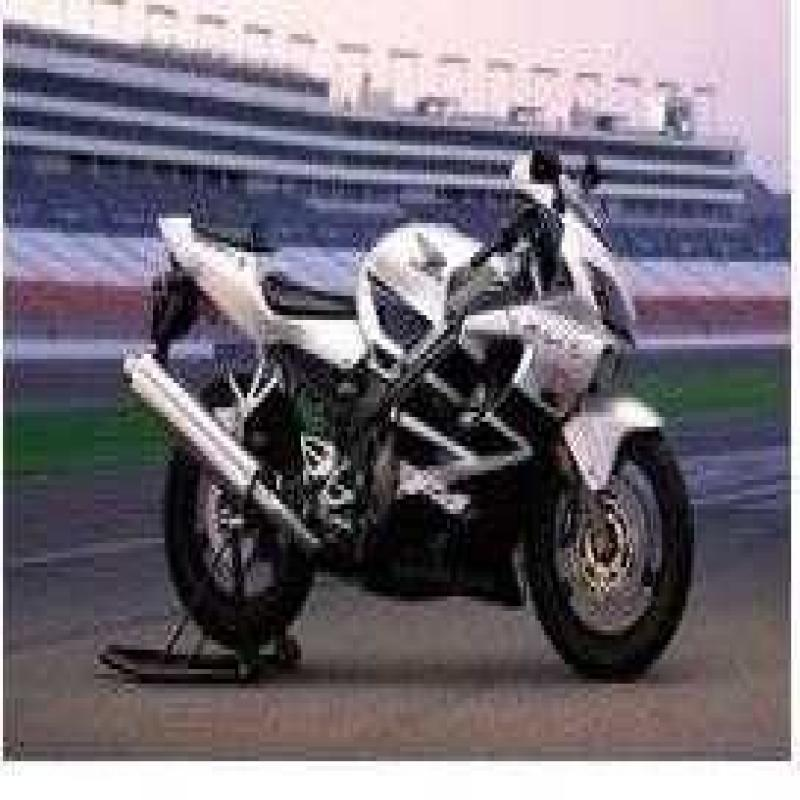bike: (108, 106, 688, 669)
